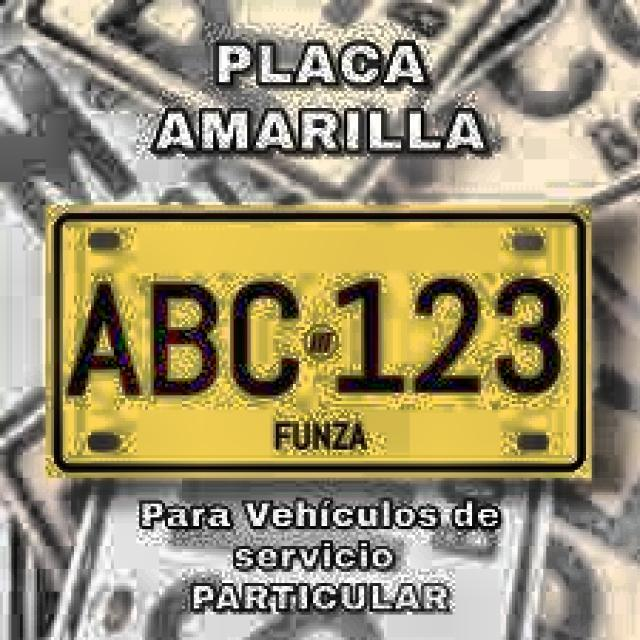plate: (52, 210, 588, 476)
